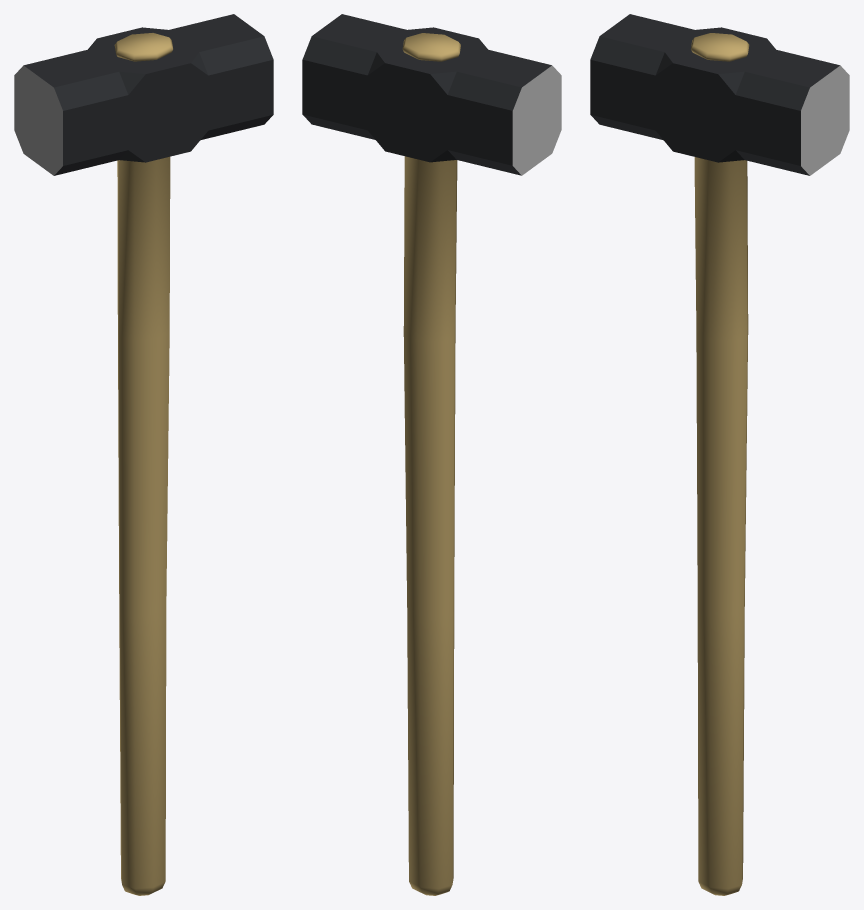
Rendered from SledgeHammer.fbx.
3 views of the same model, side by side, from view 1: azimuth 30°, elevation 25°; view 2: azimuth 150°, elevation 25°; view 3: azimuth 330°, elevation 25° (orthographic).
Parts seen in each view (by area): view 1: Cube; view 2: Cube; view 3: Cube.
Boxes of the visible parts, bbox=[...] form: Cube: bbox=[14, 14, 273, 895]; Cube: bbox=[302, 14, 561, 895]; Cube: bbox=[590, 14, 849, 895].
Size of the model in its own units: 11.41 by 43.91 by 4.58.
